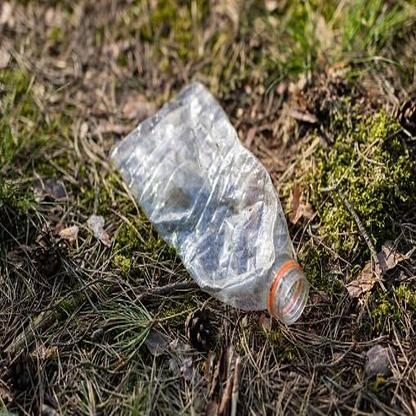plastic bottle: (107, 80, 309, 324)
